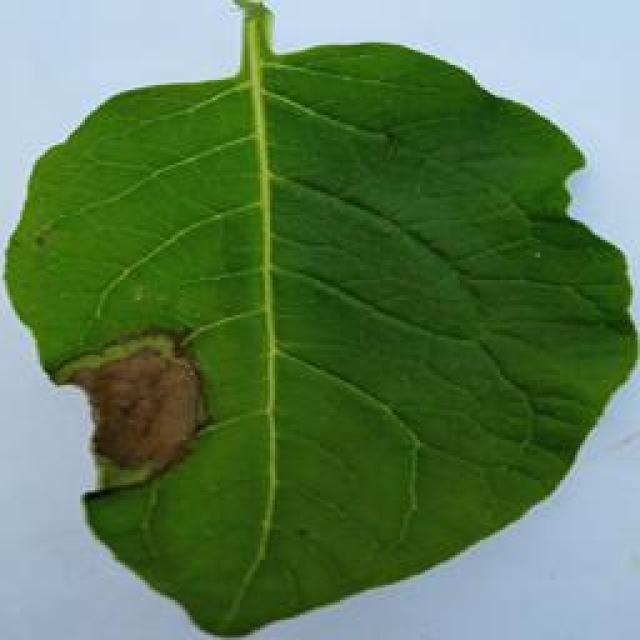Potato_Late_Blight: (7, 8, 623, 631)
